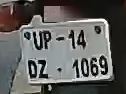0: (79, 57, 90, 78)
1: (67, 27, 76, 52), (72, 58, 81, 79)
4: (76, 28, 89, 52)
6: (90, 55, 99, 78)
9: (99, 54, 109, 77)
D: (26, 57, 38, 79)
P: (42, 29, 52, 53)
U: (31, 30, 44, 51)
Z: (37, 57, 50, 80)
